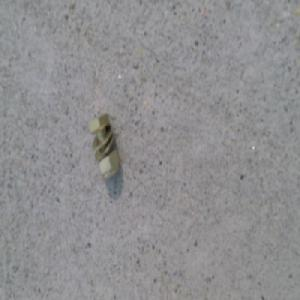BoltNutSet: (88, 111, 120, 179)
